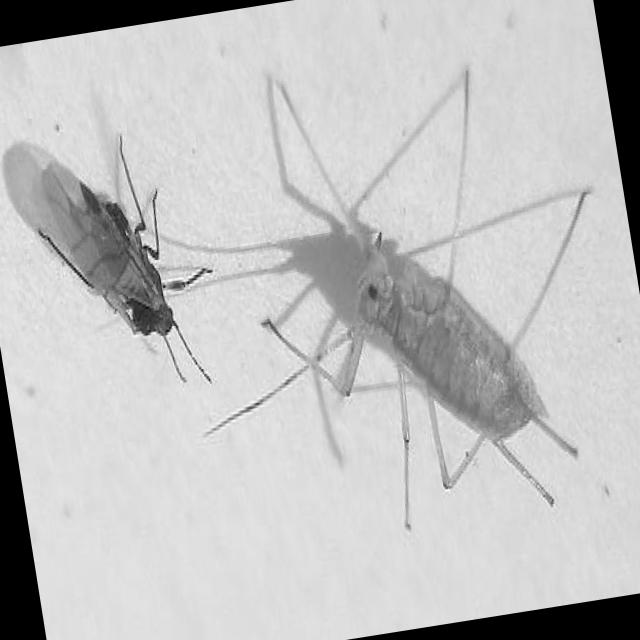Aphids: (187, 38, 634, 604)
